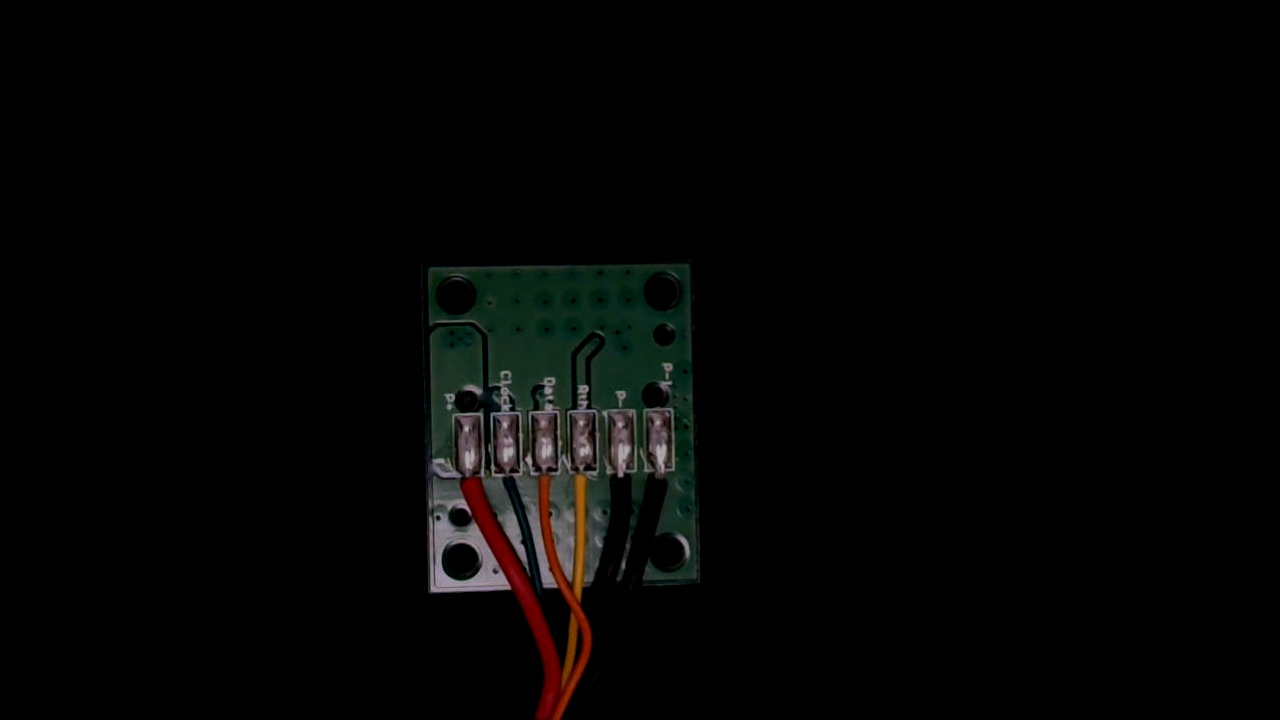Black: (604, 455, 639, 529)
Black1: (647, 453, 680, 521)
Green: (492, 454, 522, 514)
Orange: (530, 453, 562, 521)
Red: (454, 457, 488, 528)
Yellow: (566, 456, 600, 531)
